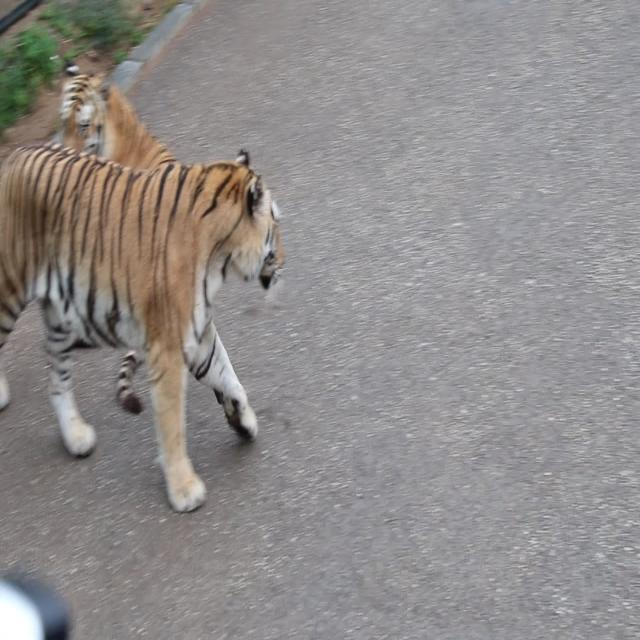Tiger: (0, 140, 288, 517), (58, 50, 182, 175)
